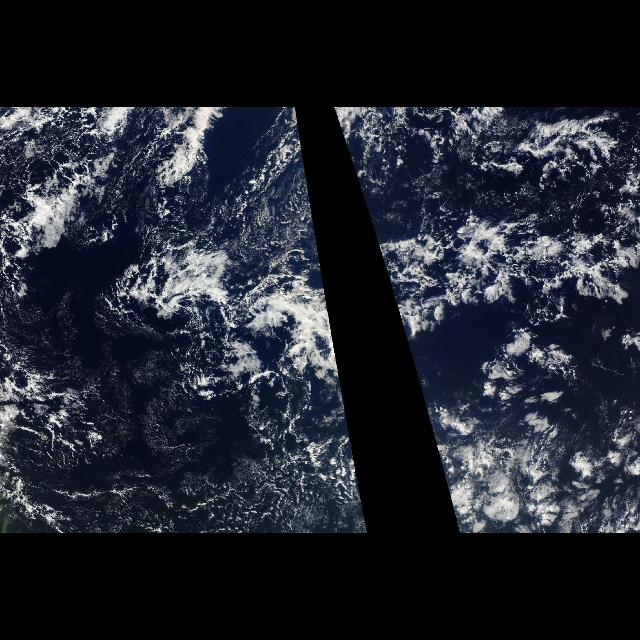Flower: (460, 321, 606, 534)
Gravel: (0, 108, 336, 358), (371, 222, 631, 358)
Sugar: (54, 322, 352, 532), (246, 204, 322, 266)
